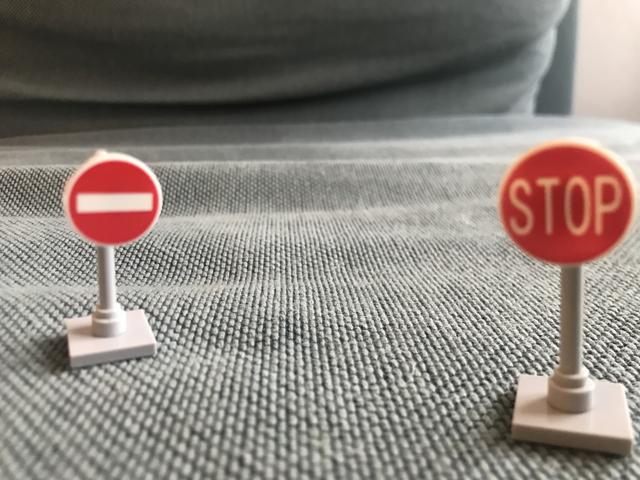stop: (496, 137, 634, 270)
verbot der einfahrt: (64, 148, 161, 251)
